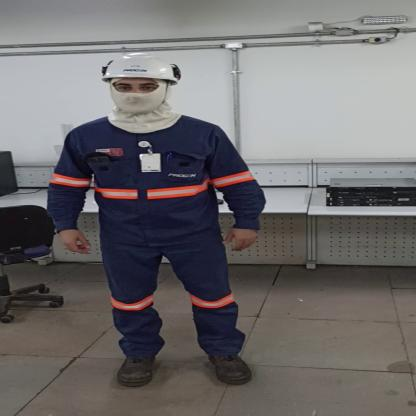Balaclava: (100, 80, 188, 135)
Capacete: (93, 54, 183, 86)
